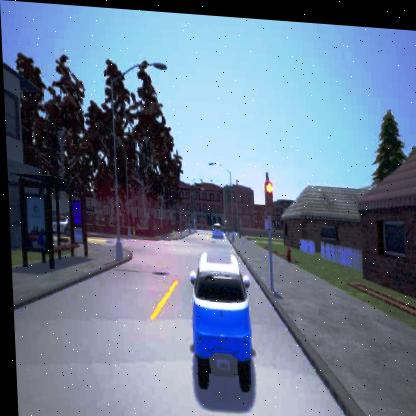vehicle: (186, 247, 251, 388), (209, 216, 220, 234)
